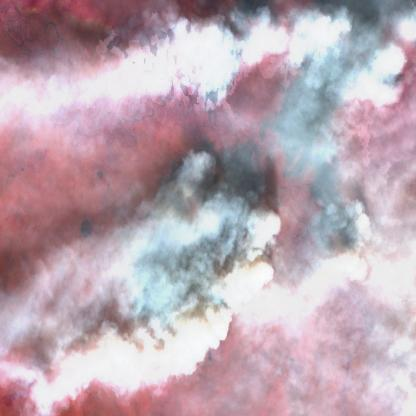fire: (114, 137, 276, 358), (198, 6, 258, 103), (331, 198, 368, 260)
